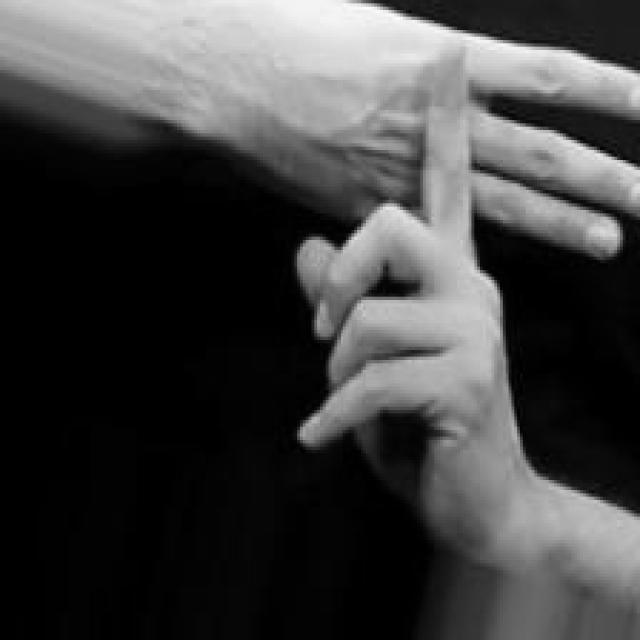E: (278, 5, 640, 573)
